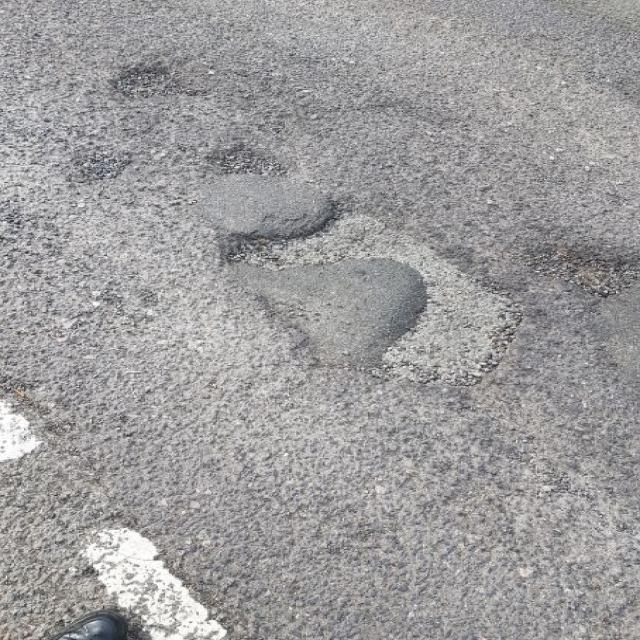pothole: (210, 194, 536, 392)
